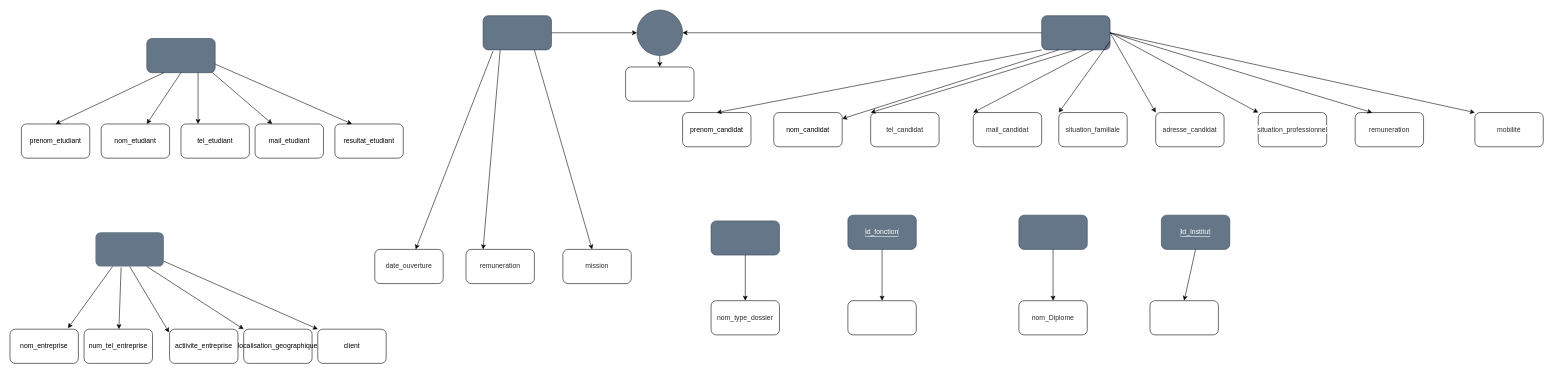
The diagram is 1553 pixels wide and 373 high, and some of its shapes have lost their labels. Each missing label, with the centre of its shape:
date_contacte: (659,83)
Id_Candidat: (1075,32)
Id_Diplome: (1052,232)
Id_Entreprise: (129,249)
Id_Mission: (517,32)
Id_Type_Dossier: (745,237)
nom_institut: (1183,317)
n°etudiant: (180,55)
type_fonction: (881,317)
